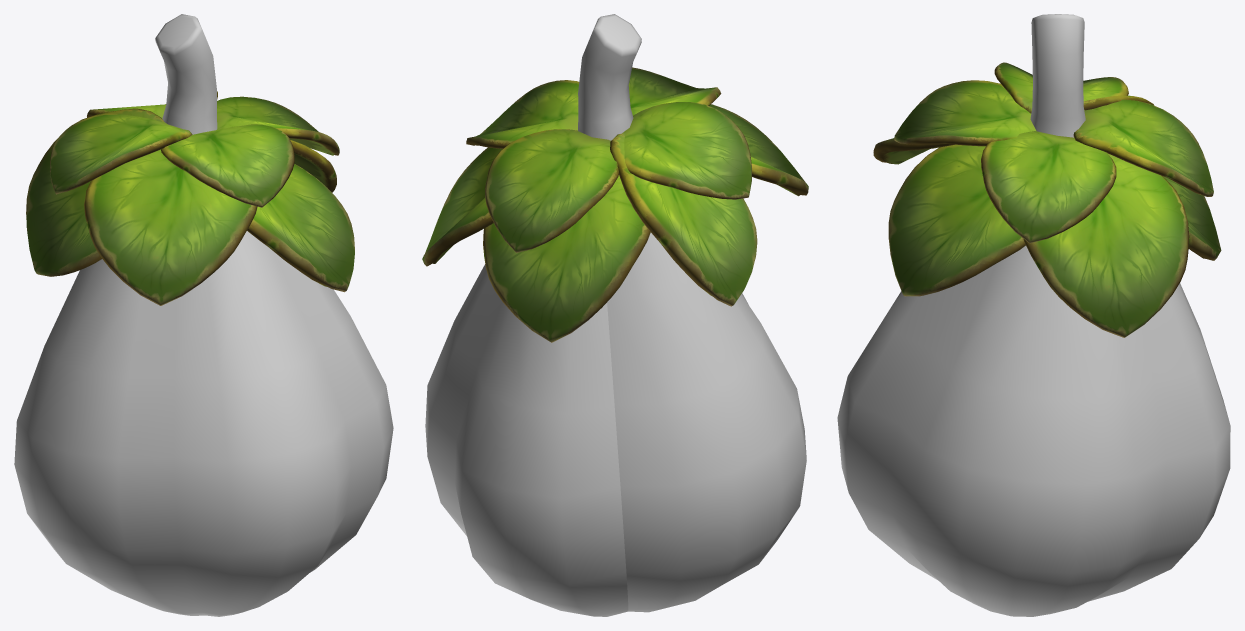
File: Fulong_one.fbx
The picture shows the model from 3 angles, left to right: view 1: azimuth 30°, elevation 25°; view 2: azimuth 150°, elevation 25°; view 3: azimuth 270°, elevation 25°; orthographic projection. The views are drawn at different scales.
Parts seen in each view (by area): view 1: Object112, Object113, Object114, Object031; view 2: Object112, Object113, Object114, Object031; view 3: Object112, Object113, Object114, Object031.
Part boxes in pixels (box(x1,y1,x2,y2)): Object112: box(14, 231, 393, 616); Object113: box(26, 108, 354, 305); Object114: box(50, 91, 339, 207); Object031: box(155, 14, 217, 134); Object112: box(425, 232, 806, 616); Object113: box(422, 104, 808, 342); Object114: box(466, 67, 751, 252); Object031: box(578, 14, 641, 140); Object112: box(837, 245, 1230, 616); Object113: box(873, 95, 1221, 337); Object114: box(894, 62, 1213, 243); Object031: box(1030, 14, 1085, 137).
Size of the model in its own units: 0.4646 by 0.7615 by 0.462.
